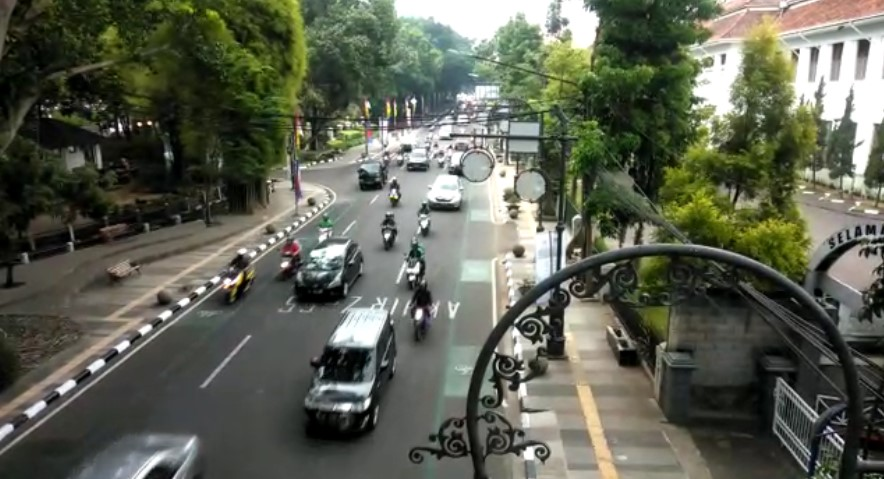mobil: (297, 307, 399, 446), (294, 237, 364, 298), (425, 173, 468, 214)
motor: (406, 284, 439, 336), (219, 247, 250, 296), (404, 240, 432, 288), (374, 210, 403, 252), (273, 234, 299, 275), (313, 213, 337, 243), (415, 202, 432, 235), (384, 182, 406, 206)
